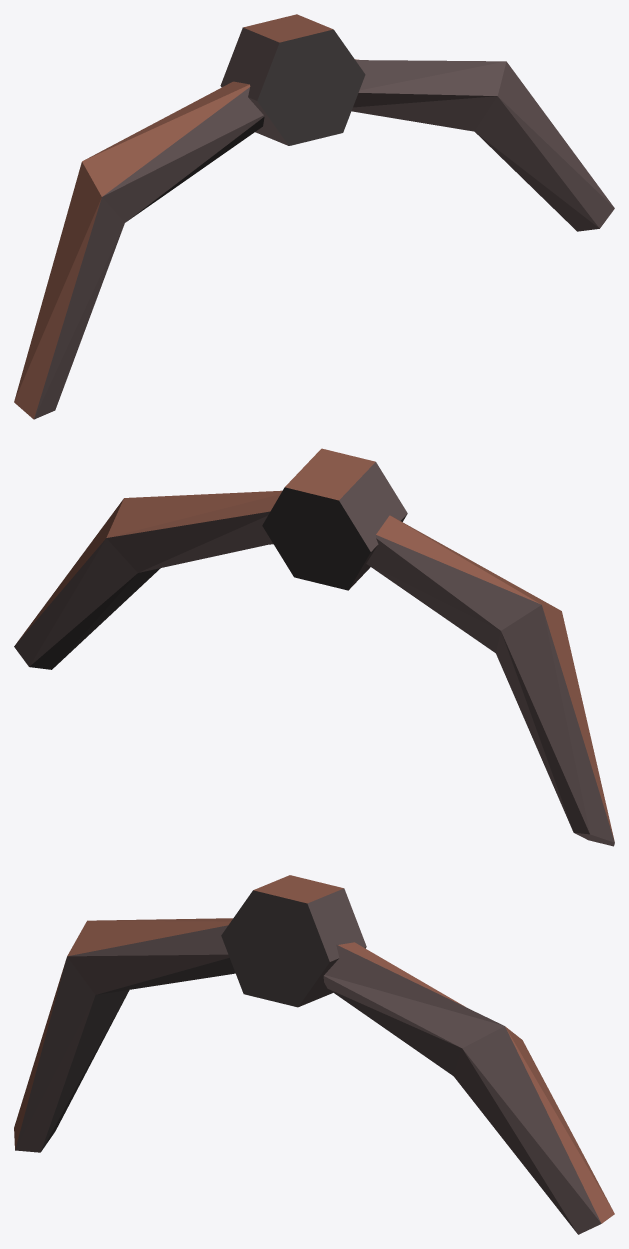
Rendered from TB_D_Env_BoneF_C.FBX.
3 renders of one model, top to bottom at view 1: azimuth 30°, elevation 25°; view 2: azimuth 150°, elevation 25°; view 3: azimuth 330°, elevation 25°, orthographic.
Parts seen in each view (by area): view 1: TB_D_Env_BoneF_C; view 2: TB_D_Env_BoneF_C; view 3: TB_D_Env_BoneF_C.
Part boxes in pixels (box(x1,y1,x2,y2)): TB_D_Env_BoneF_C: box(14, 14, 614, 419); TB_D_Env_BoneF_C: box(14, 448, 614, 846); TB_D_Env_BoneF_C: box(14, 875, 614, 1234).
Size of the model in its own units: 3.31 by 1.71 by 0.4465.
